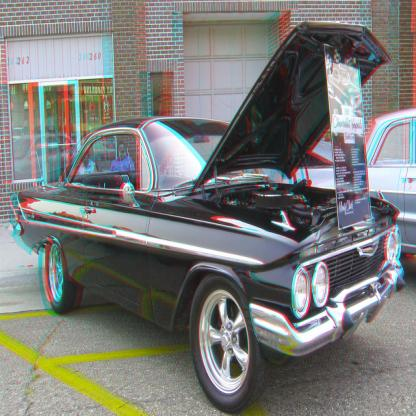Car: (12, 21, 407, 416), (295, 108, 416, 254), (366, 112, 416, 263)
